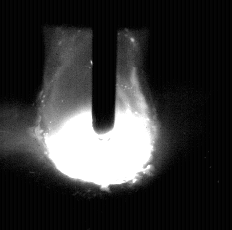arame: (93, 0, 117, 141)
poca: (39, 0, 157, 230)
